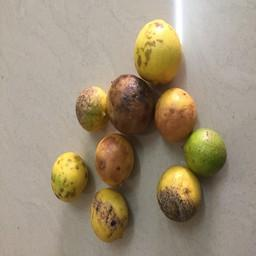Bad_lime: (130, 17, 183, 83), (106, 75, 155, 136), (157, 164, 206, 224), (92, 188, 134, 244), (50, 152, 90, 204), (158, 87, 195, 143), (98, 136, 141, 184), (75, 83, 112, 135)
